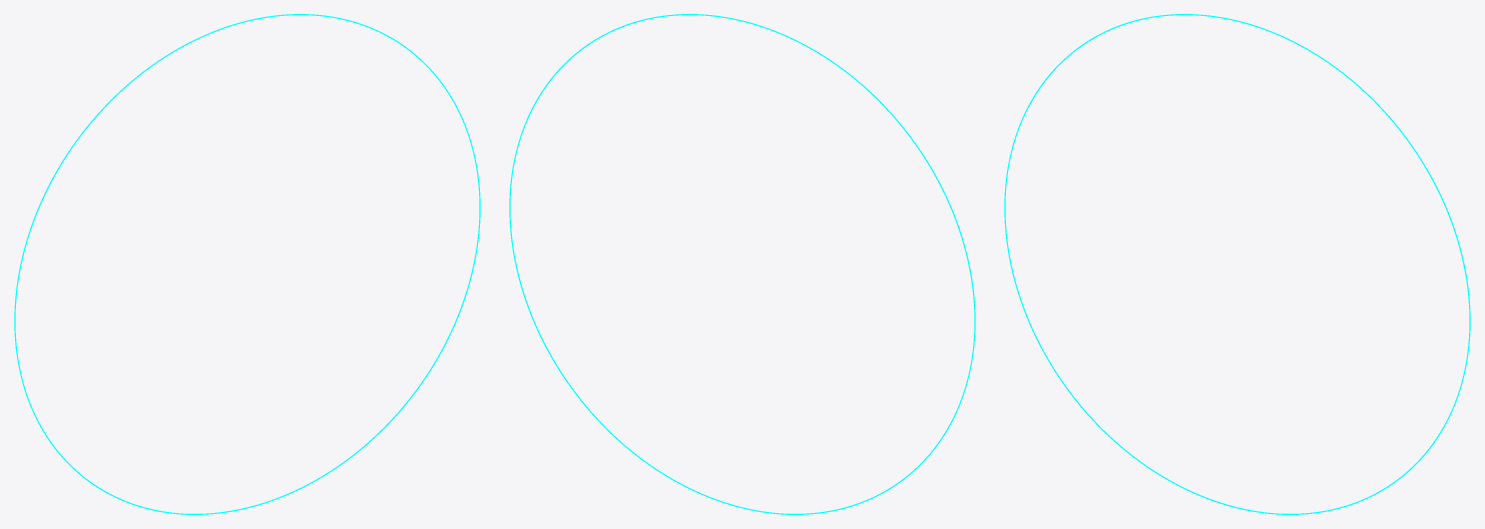
File: orbit_geo.gltf
3 renders of one model, left to right at view 1: azimuth 30°, elevation 25°; view 2: azimuth 150°, elevation 25°; view 3: azimuth 330°, elevation 25°, orthographic.
Parts seen in each view (by area): view 1: OrbitTrajectoryNode; view 2: OrbitTrajectoryNode; view 3: OrbitTrajectoryNode.
Part boxes in pixels (x1,y1,x2,y2): OrbitTrajectoryNode: [14, 14, 480, 514]; OrbitTrajectoryNode: [509, 14, 975, 514]; OrbitTrajectoryNode: [1004, 14, 1470, 514].
Size of the model in its own units: 84.53 by 84.53 by 0.2.
